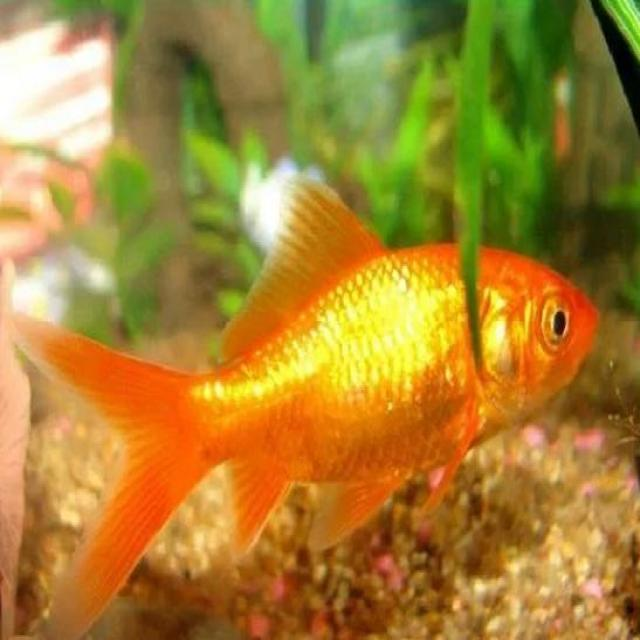GoldFish: (0, 178, 604, 640)
